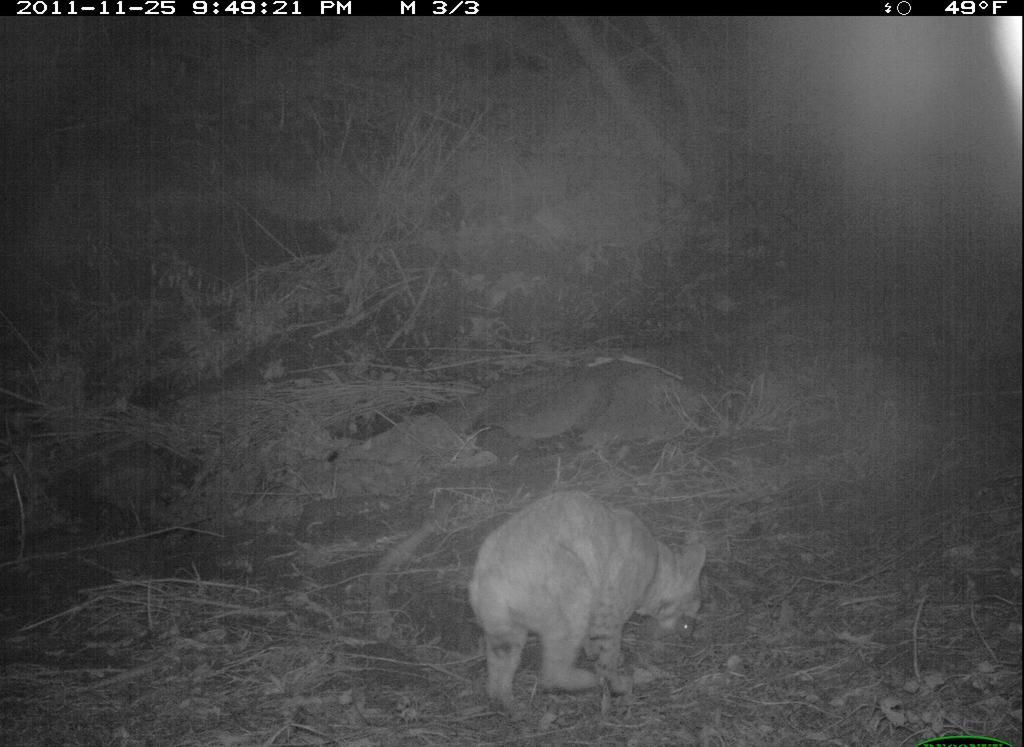bobcat: (438, 475, 738, 699)
